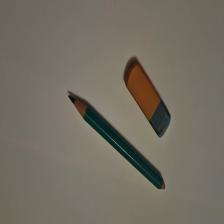eraser: (125, 63, 172, 140)
pencil: (69, 96, 166, 191)
